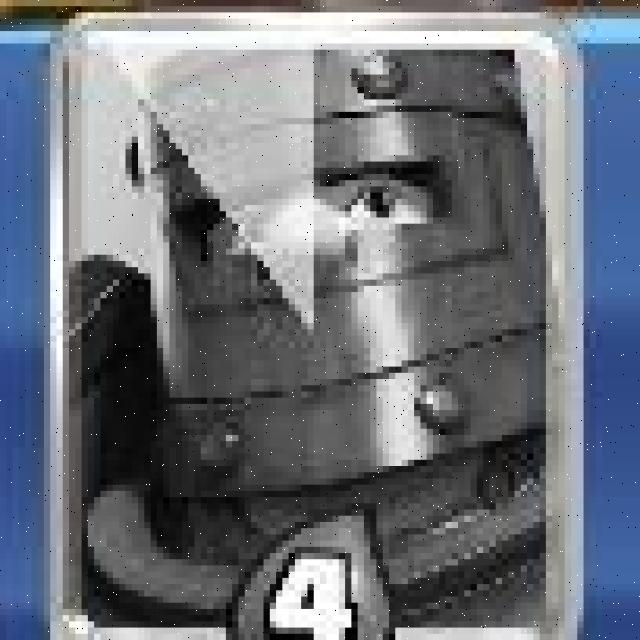Dark_Prince: (44, 2, 582, 640)
